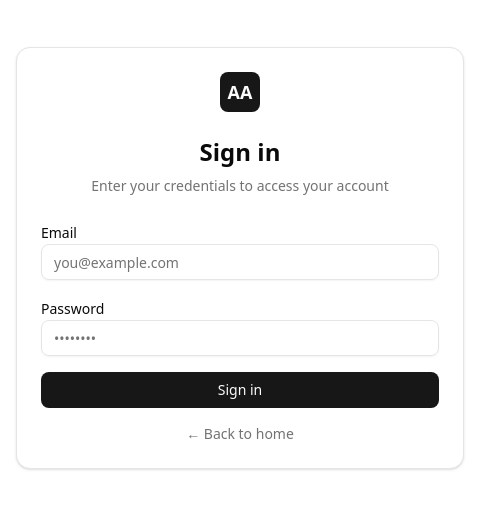
LoginPage › form submission › should show error for invalid credentials
Type "wrong@example.com" into the field labelled "Email" at (240, 262), box [41,244,439,280]
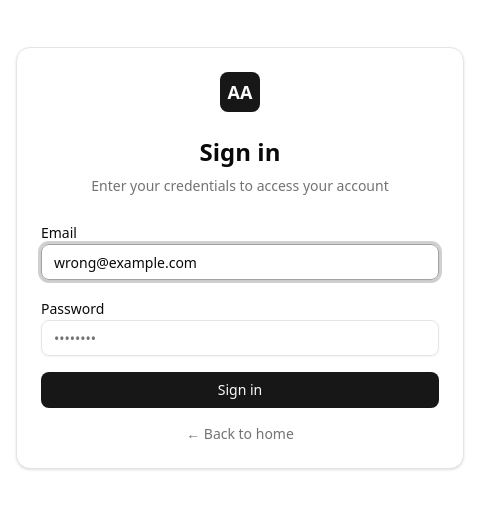
Type "wrongpass" into the password field labelled "Password" at (240, 338), box [41,320,439,356]
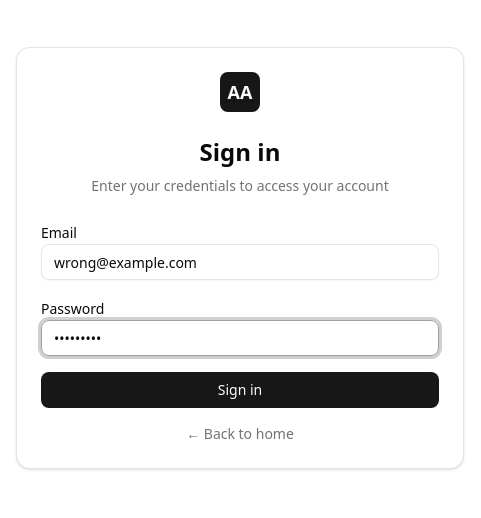
Click the button "Sign in" at (240, 390), box [41,372,439,408]
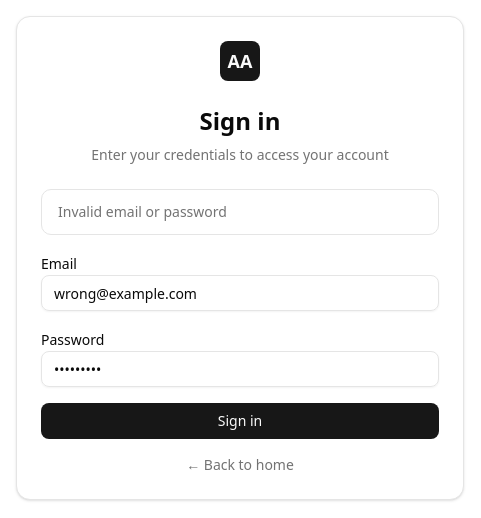
Expected: the message "Invalid email or password" is shown, [41,189,439,235]
